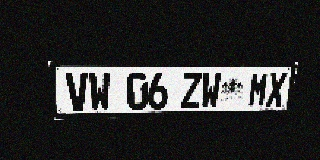0: (127, 72, 147, 110)
6: (148, 72, 168, 110)
M: (248, 72, 269, 107)
V: (65, 72, 89, 111)
W: (88, 72, 111, 111), (200, 72, 222, 108)
X: (265, 72, 287, 107)
Z: (181, 72, 202, 109)
